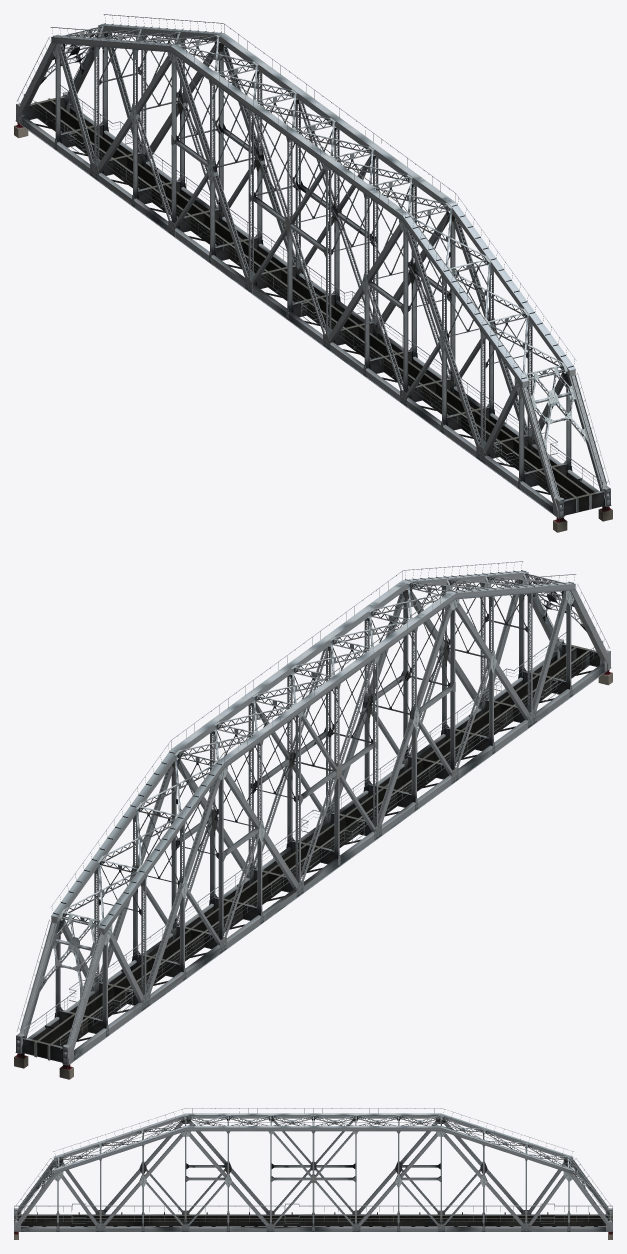
File: KZDM_arka_127m.gltf
The picture shows the model from 3 angles, top to bottom: view 1: azimuth 30°, elevation 25°; view 2: azimuth 150°, elevation 25°; view 3: azimuth 270°, elevation 25°; orthographic projection. The views are drawn at different scales.
Bounding box in the file's own units: 7.57 × 27.62 × 128.
1 material, 1 textured.
